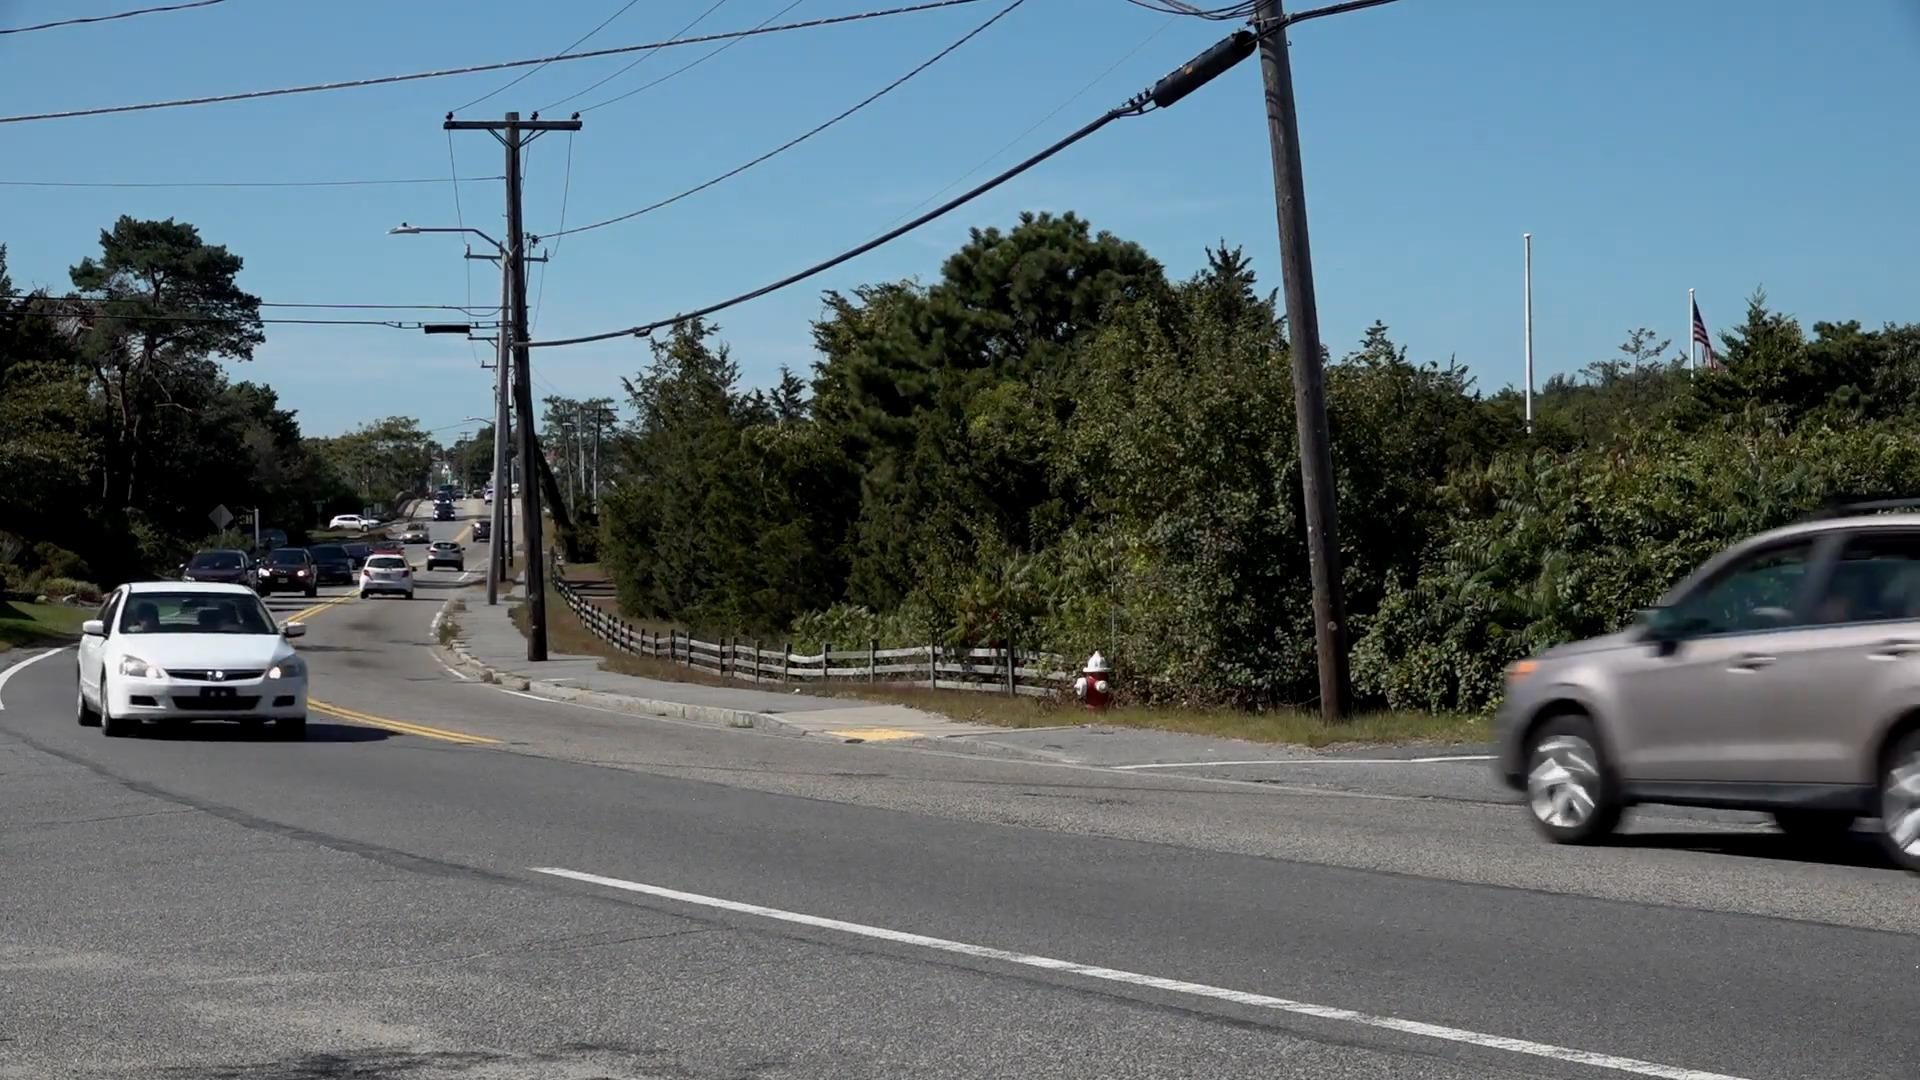sedans: (77, 582, 305, 738)
suv: (1493, 508, 1920, 873)
